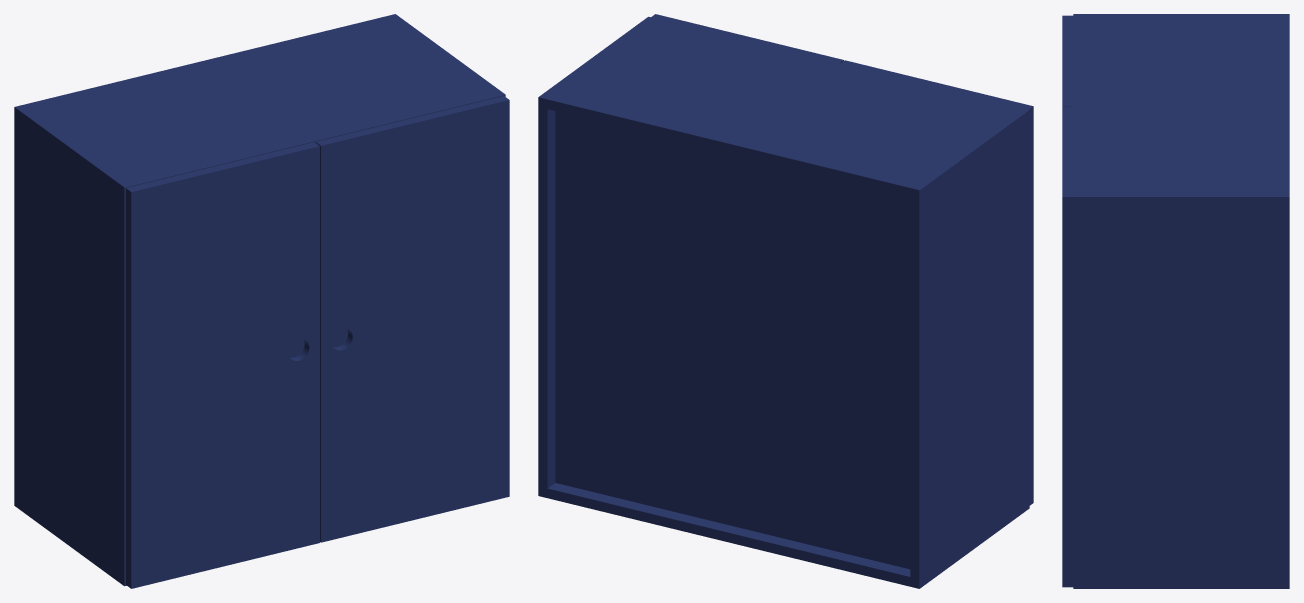
Rendered from MOD_2X2_DD_B_AF.glb.
3 views of the same model, side by side, from view 1: azimuth 30°, elevation 25°; view 2: azimuth 150°, elevation 25°; view 3: azimuth 270°, elevation 25° (orthographic).
Bounding box in the file's own units: 720 × 720 × 378.
